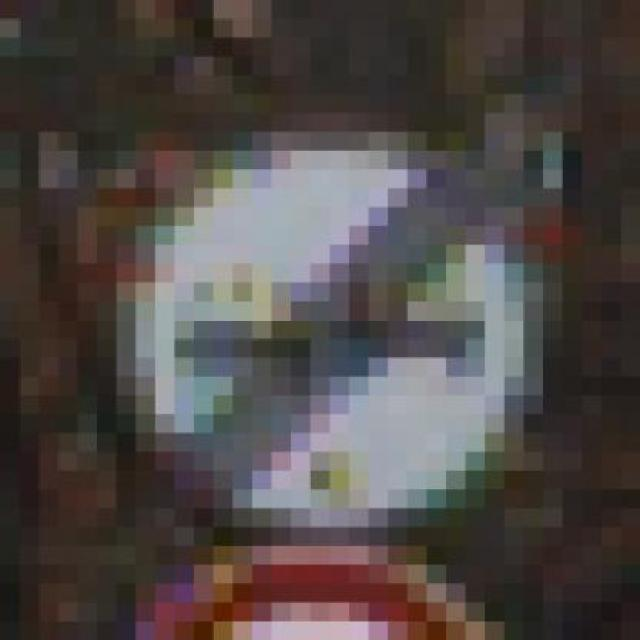No_Over_Taking: (78, 76, 582, 546)
